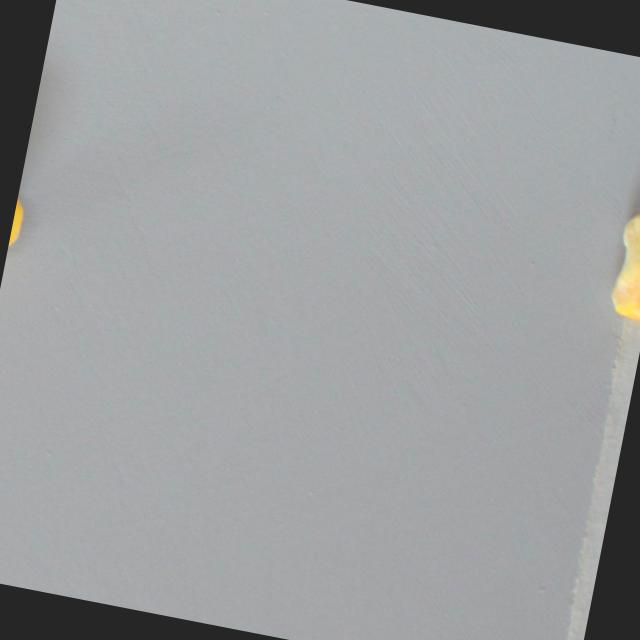dañado: (2, 182, 35, 283)
